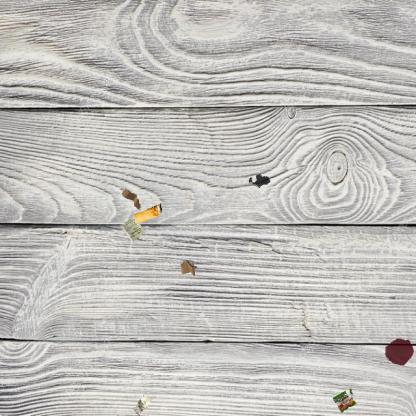dirty: (330, 386, 359, 415), (119, 215, 146, 243), (132, 201, 163, 225), (128, 392, 154, 416), (120, 186, 141, 211), (178, 258, 199, 278)
liquid: (384, 338, 416, 366), (248, 173, 270, 189)
